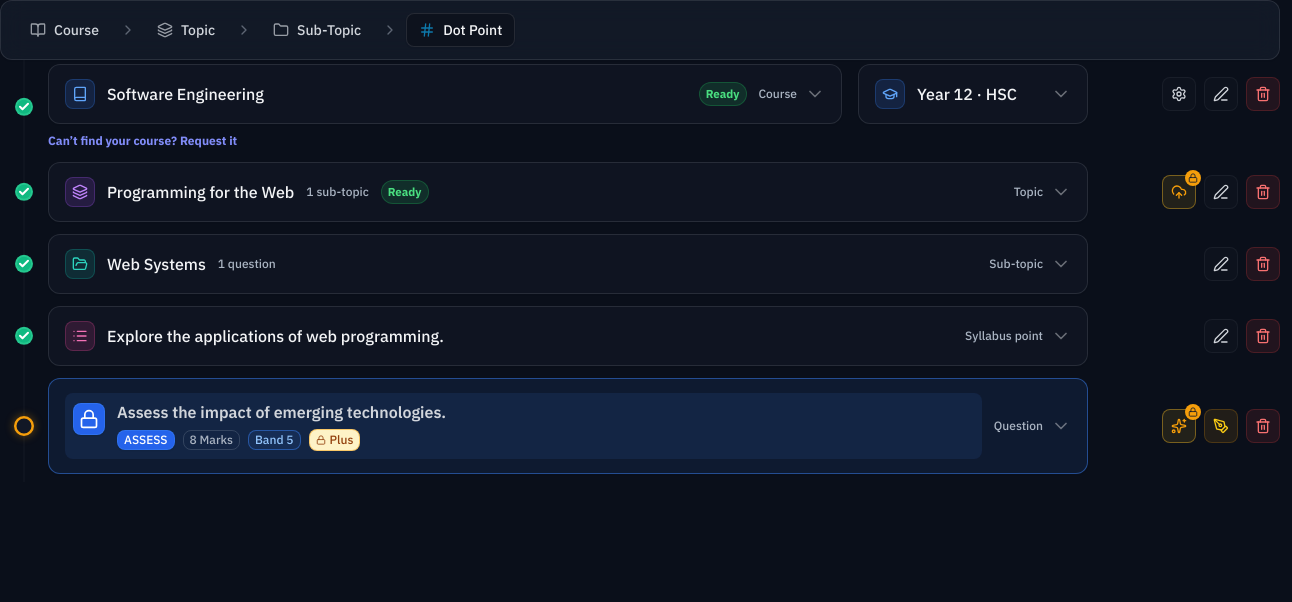
Test case: the cleared-question notice, driven from the breadcrumb › names the level the Dot Point crumb returns to
Click the button "Dot Point". click: (461, 30)
box: [406,13,515,47]
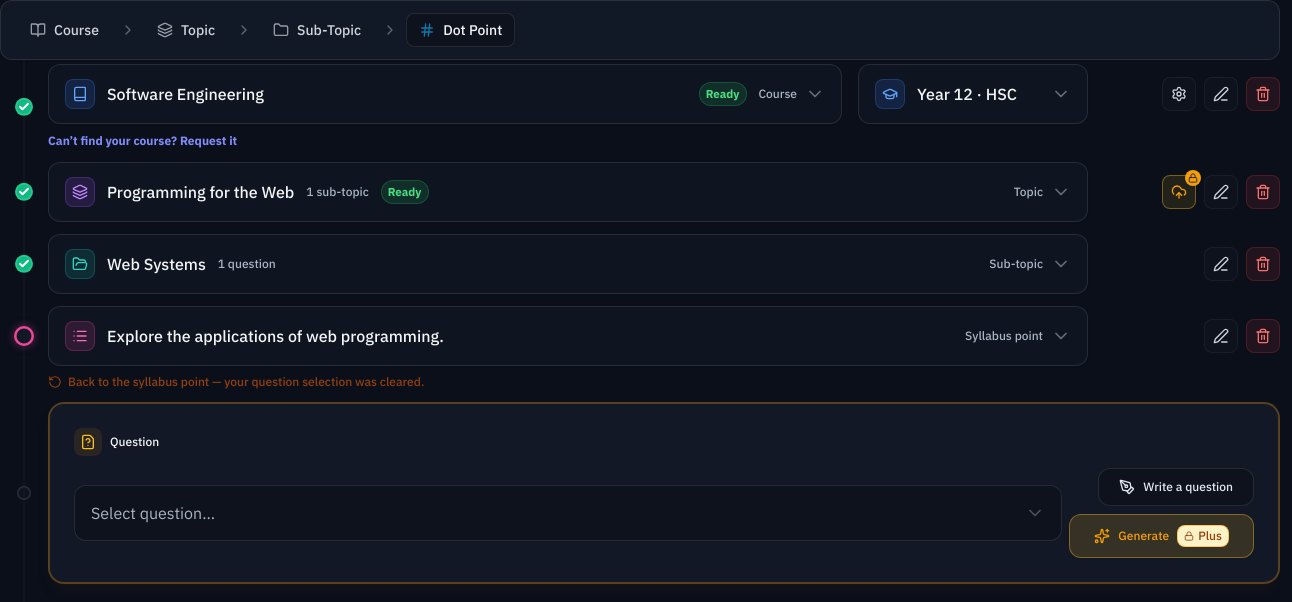
Result: the message reads "Back to the syllabus point — your question selection was cleared." at [68,374,424,389]
